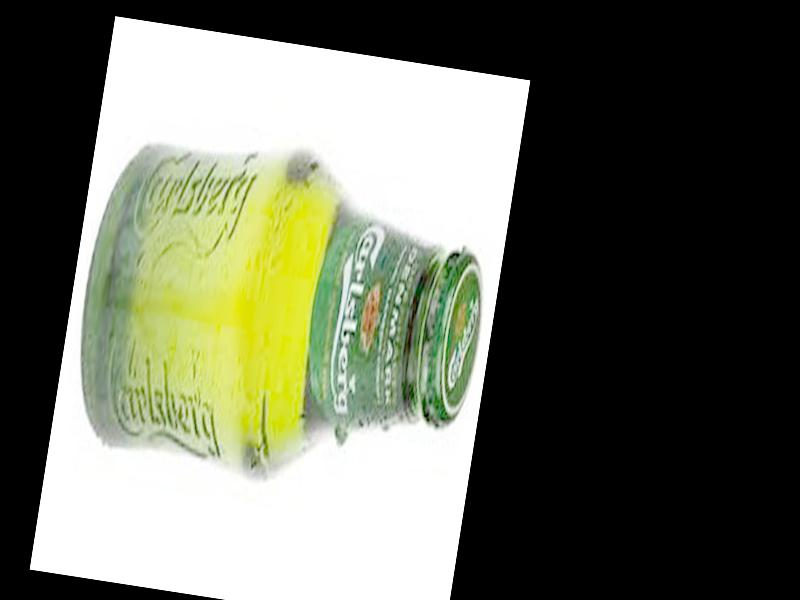Beer: (60, 128, 501, 507)
